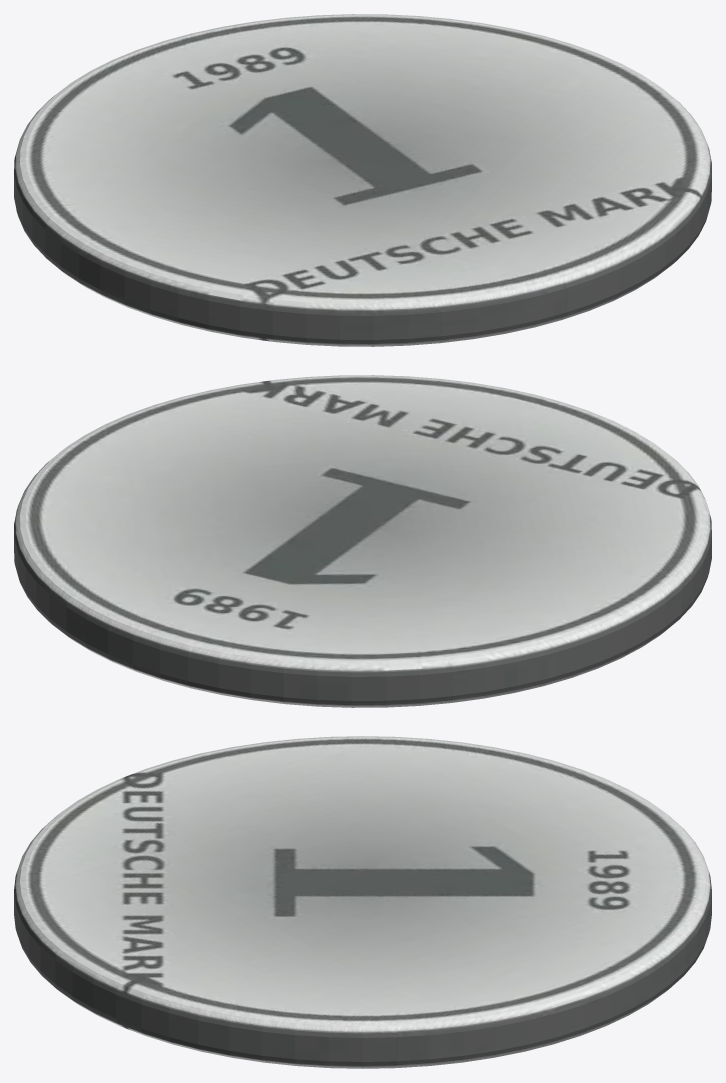
The model's file is coin.glb.
The picture shows the model from 3 angles, top to bottom: view 1: azimuth 30°, elevation 25°; view 2: azimuth 150°, elevation 25°; view 3: azimuth 270°, elevation 25°; orthographic projection.
Parts seen in each view (by area): view 1: coin; view 2: coin; view 3: coin.
Part boxes in pixels (left/top/right/bottom): coin: left=14, top=14, right=711, bottom=346; coin: left=14, top=375, right=711, bottom=707; coin: left=14, top=736, right=711, bottom=1068.
Size of the model in its own units: 0.0236 by 0.0017 by 0.0236.
Materials: 1 (1 with a texture image).
